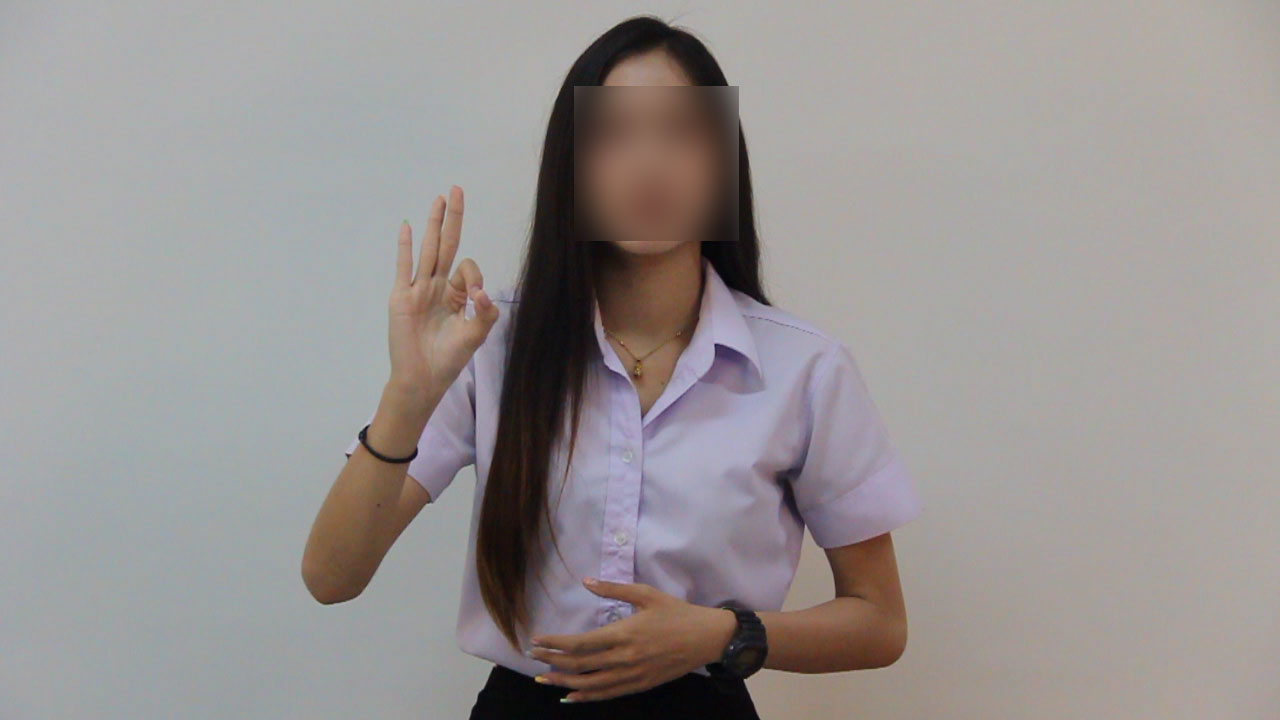for: (364, 173, 507, 398)
